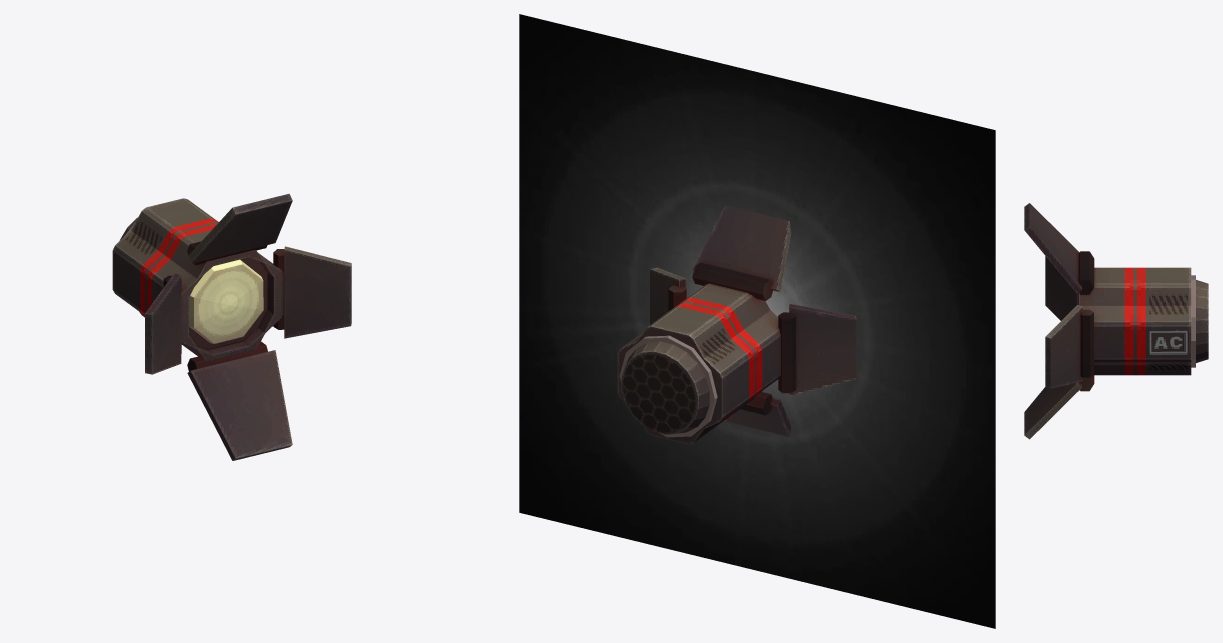
The model's file is item_film_light.glb.
The picture shows the model from 3 angles, left to right: view 1: azimuth 30°, elevation 25°; view 2: azimuth 150°, elevation 25°; view 3: azimuth 270°, elevation 25°; orthographic projection. The views are drawn at different scales.
Visible parts, largest first — view 1: Light; view 2: Quad, Light, Cylinder; view 3: Light, Cylinder.
Part boxes in pixels (x1,y1,x2,y2): Light: (112, 193, 351, 460); Quad: (519, 14, 995, 628); Light: (617, 205, 856, 444); Cylinder: (619, 335, 717, 437); Light: (1024, 203, 1208, 439); Cylinder: (1191, 275, 1195, 367).
Size of the model in its own units: 1 by 1 by 0.3984.
3 materials, 2 textured.
